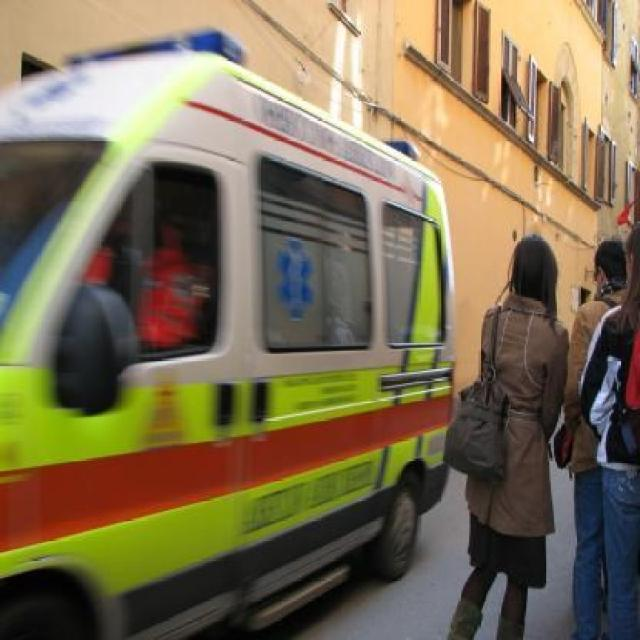Van: (0, 31, 470, 640)
